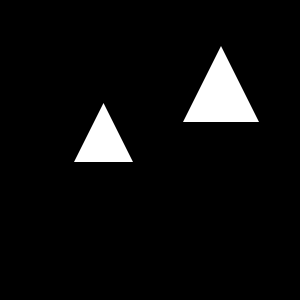triangle: (183, 46, 259, 122), (74, 103, 133, 162)
